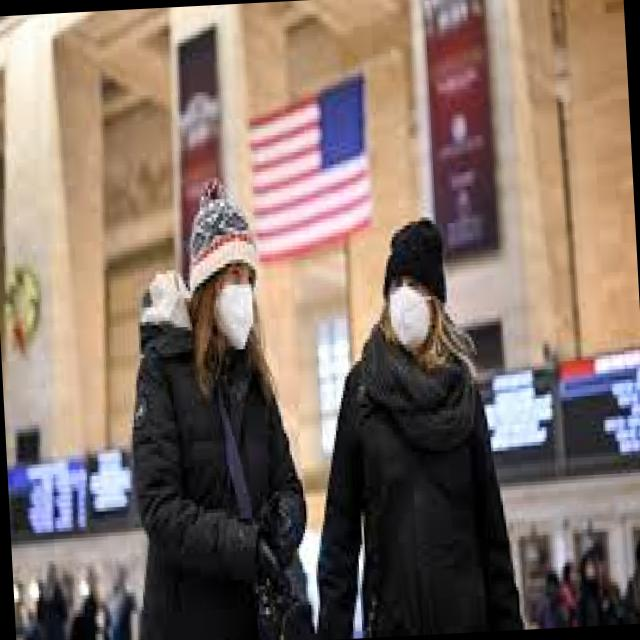Jacket: (298, 305, 543, 640), (112, 319, 313, 640)
